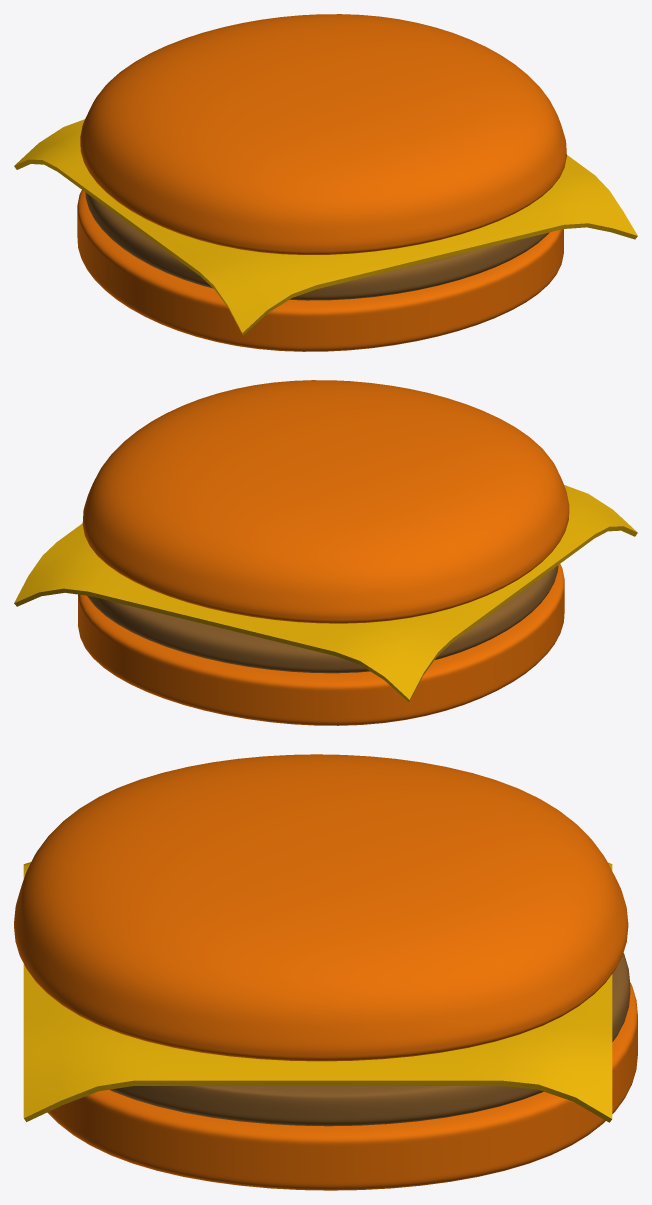
The model's file is burgerrr.glb.
3 renders of one model, top to bottom at view 1: azimuth 30°, elevation 25°; view 2: azimuth 150°, elevation 25°; view 3: azimuth 270°, elevation 25°, orthographic. The views are drawn at different scales.
Visible parts, largest first — view 1: Cube.002, Cube, Plane, Cube.001; view 2: Cube.002, Cube, Plane, Cube.001; view 3: Cube.002, Cube, Plane, Cube.001.
Boxes of the visible parts, left/top/right/bottom form: Cube.002: left=80, top=14, right=566, bottom=254; Cube: left=77, top=190, right=563, bottom=351; Plane: left=14, top=119, right=637, bottom=335; Cube.001: left=85, top=192, right=549, bottom=300; Cube.002: left=82, top=380, right=569, bottom=623; Cube: left=78, top=564, right=564, bottom=725; Plane: left=14, top=485, right=637, bottom=702; Cube.001: left=87, top=565, right=558, bottom=673; Cube.002: left=14, top=754, right=628, bottom=1061; Cube: left=47, top=982, right=637, bottom=1190; Plane: left=23, top=862, right=612, bottom=1122; Cube.001: left=109, top=953, right=630, bottom=1126.
Size of the model in its own units: 5.69 by 2.46 by 5.77.
